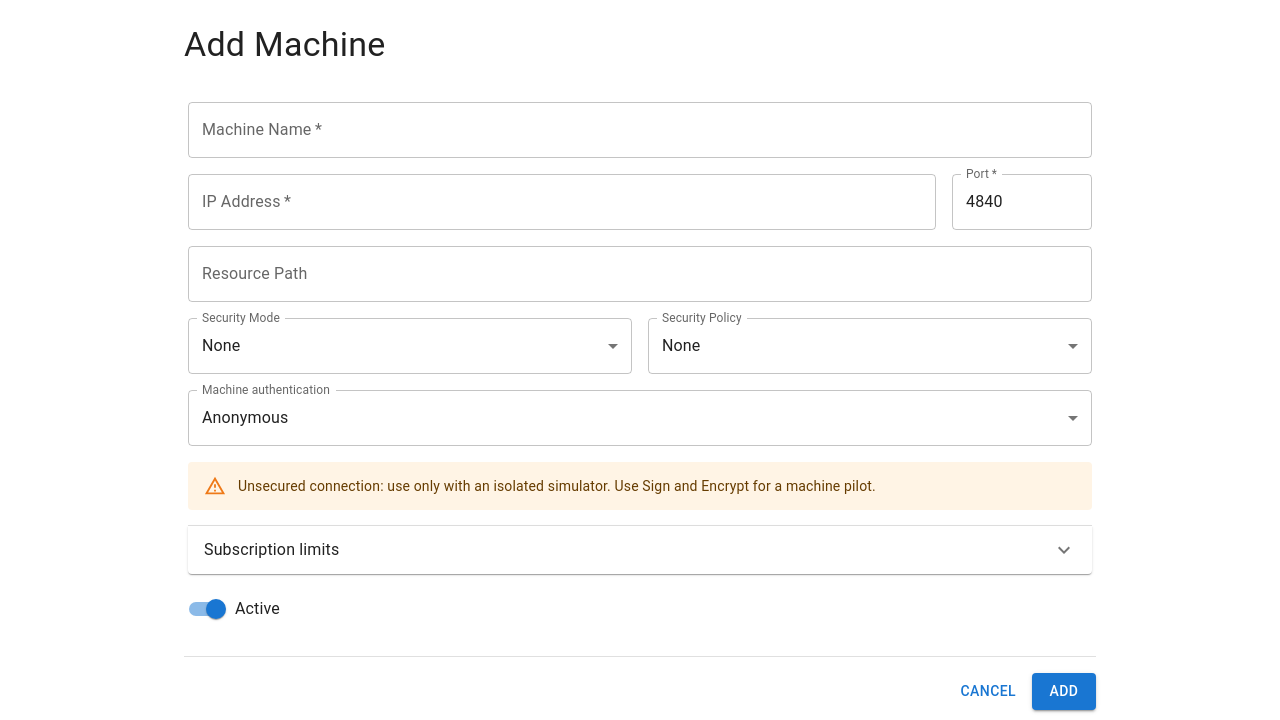
Test: rejects invalid ports without submitting or discarding the draft
Type "Line A" into the field labelled "Machine Name *" at (640, 130), box [188,102,1092,158]
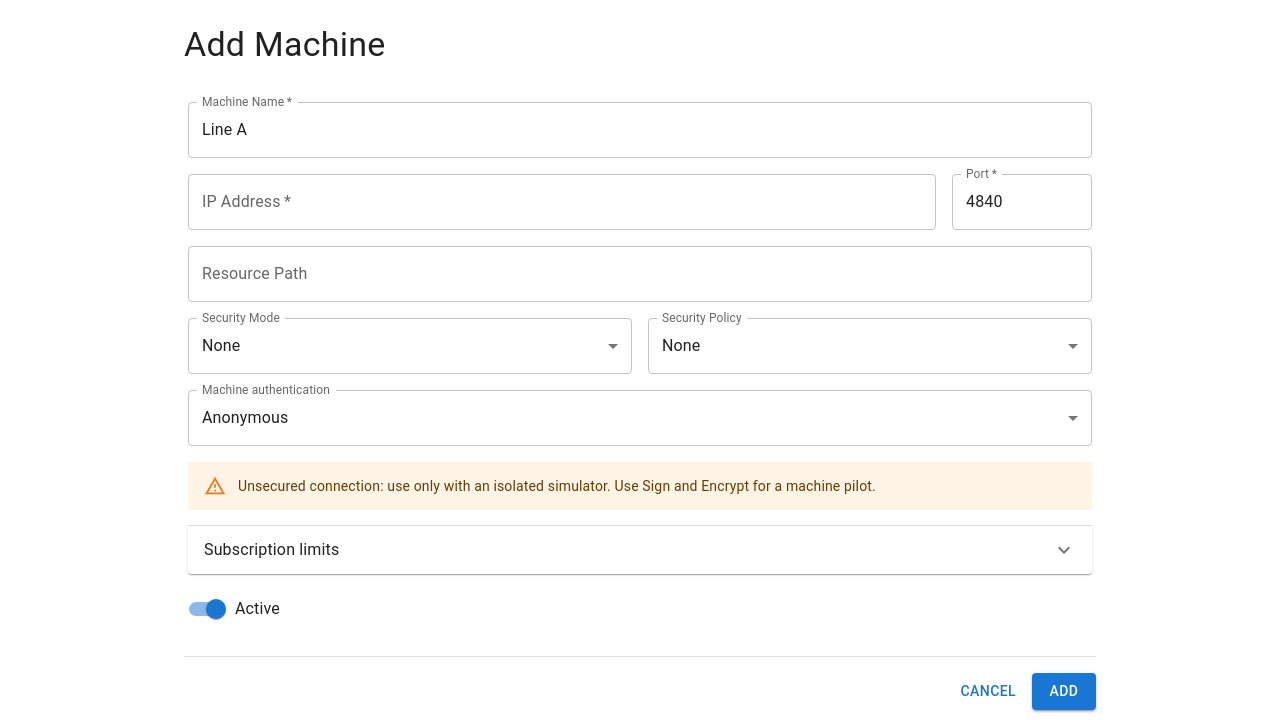
Type "localhost" into the field labelled "IP Address *" at (562, 202), box [188,174,936,230]
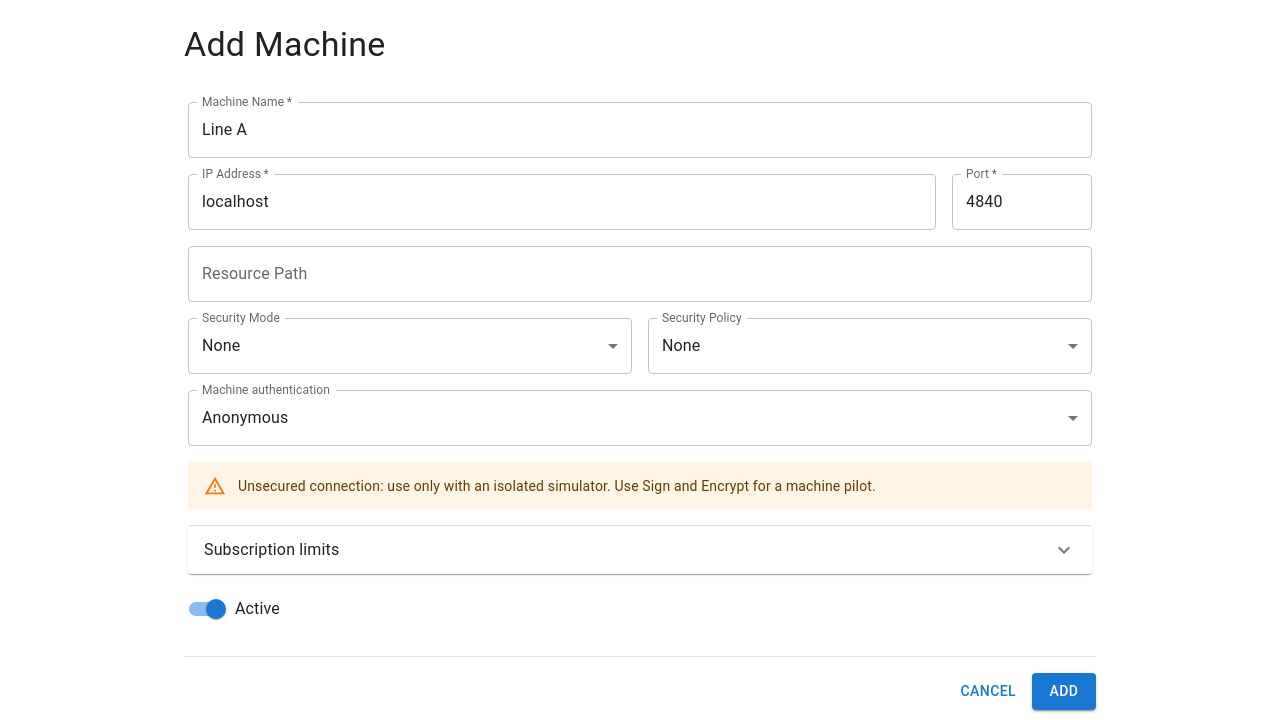
Replace the text in the number field labelled "Port *" with "70000" at (1022, 202), box [952,174,1092,230]
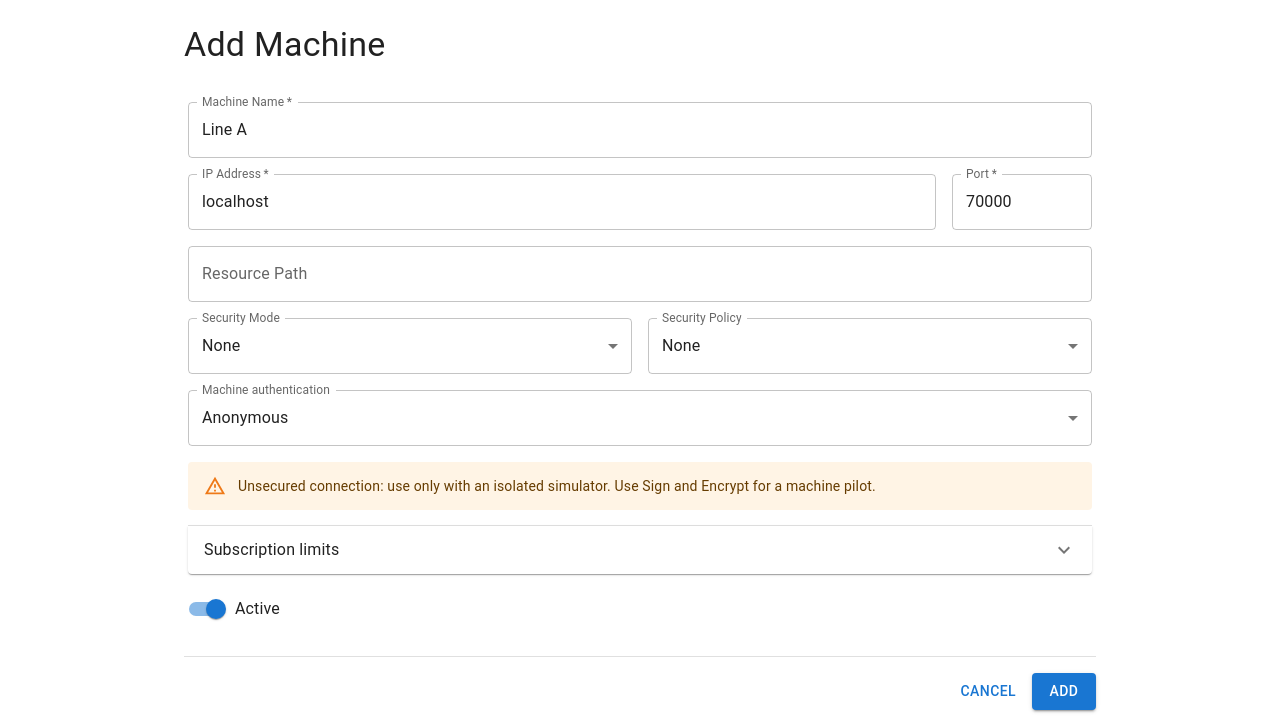
Click the button "Add" at (1064, 691), box [1032,673,1096,710]
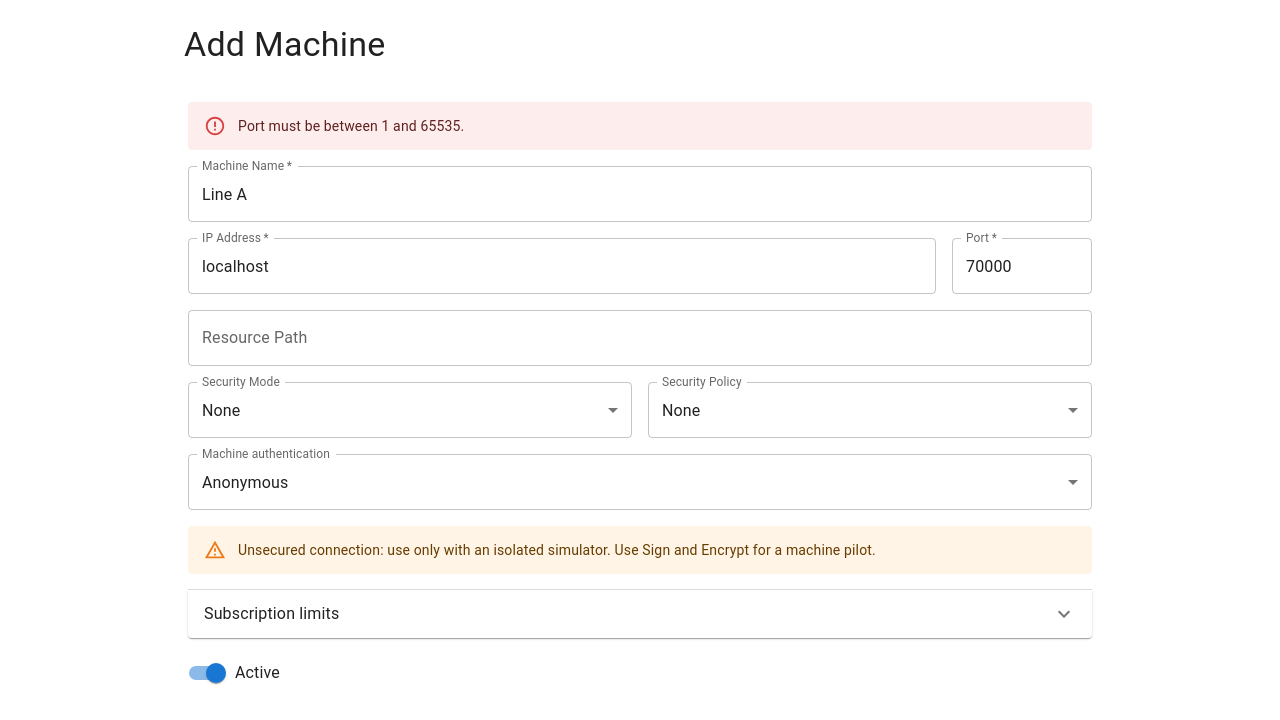
Check: the text "Port must be between 1 and 65535." is shown, box [238,118,464,134]
